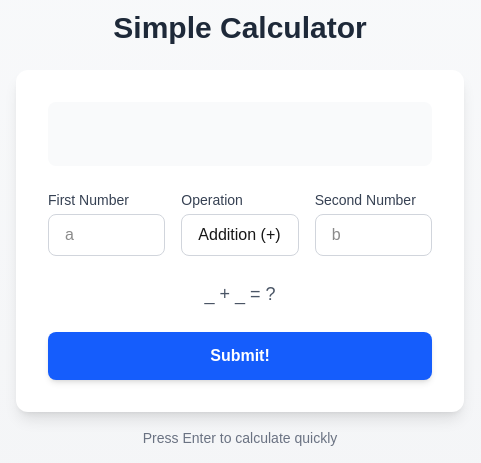
Test case: Home page › add 10 + 20 should equal 30
Type "10" into the number field with placeholder "a" at (107, 235), box x1=48 y1=214 x2=165 y2=256
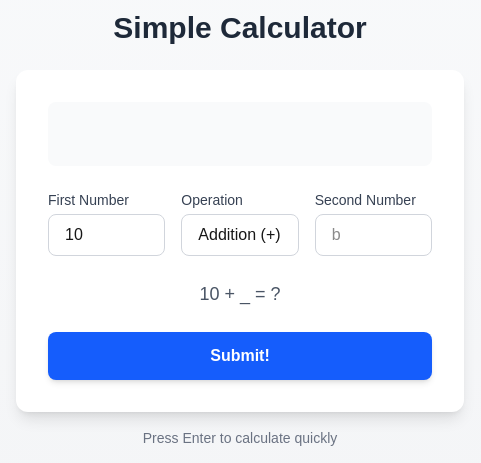
Type "20" into the number field with placeholder "b" at (373, 235), box x1=315 y1=214 x2=432 y2=256
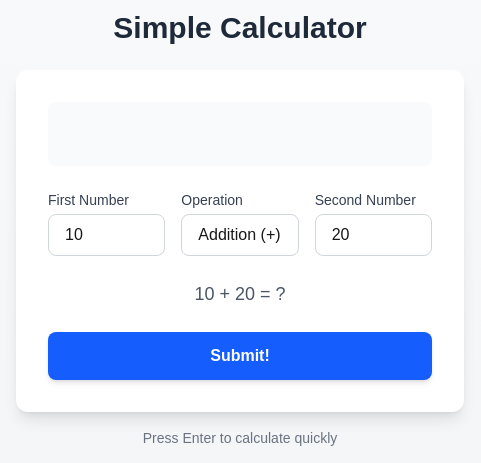
Select "Addition (+)" in the dropdown at (240, 235), box x1=181 y1=214 x2=299 y2=256
Click the button "Submit!" at (240, 356), box x1=48 y1=332 x2=432 y2=380
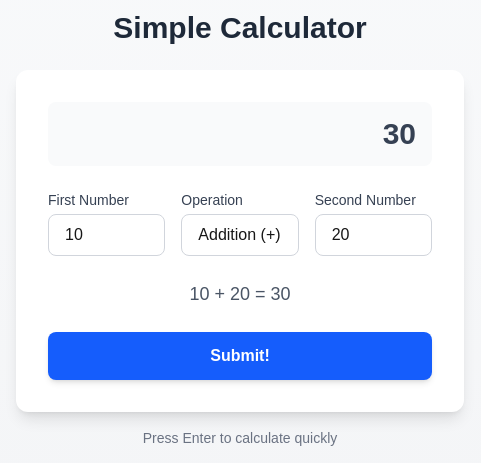
Check: the text "30" is shown, box x1=383 y1=116 x2=416 y2=152
